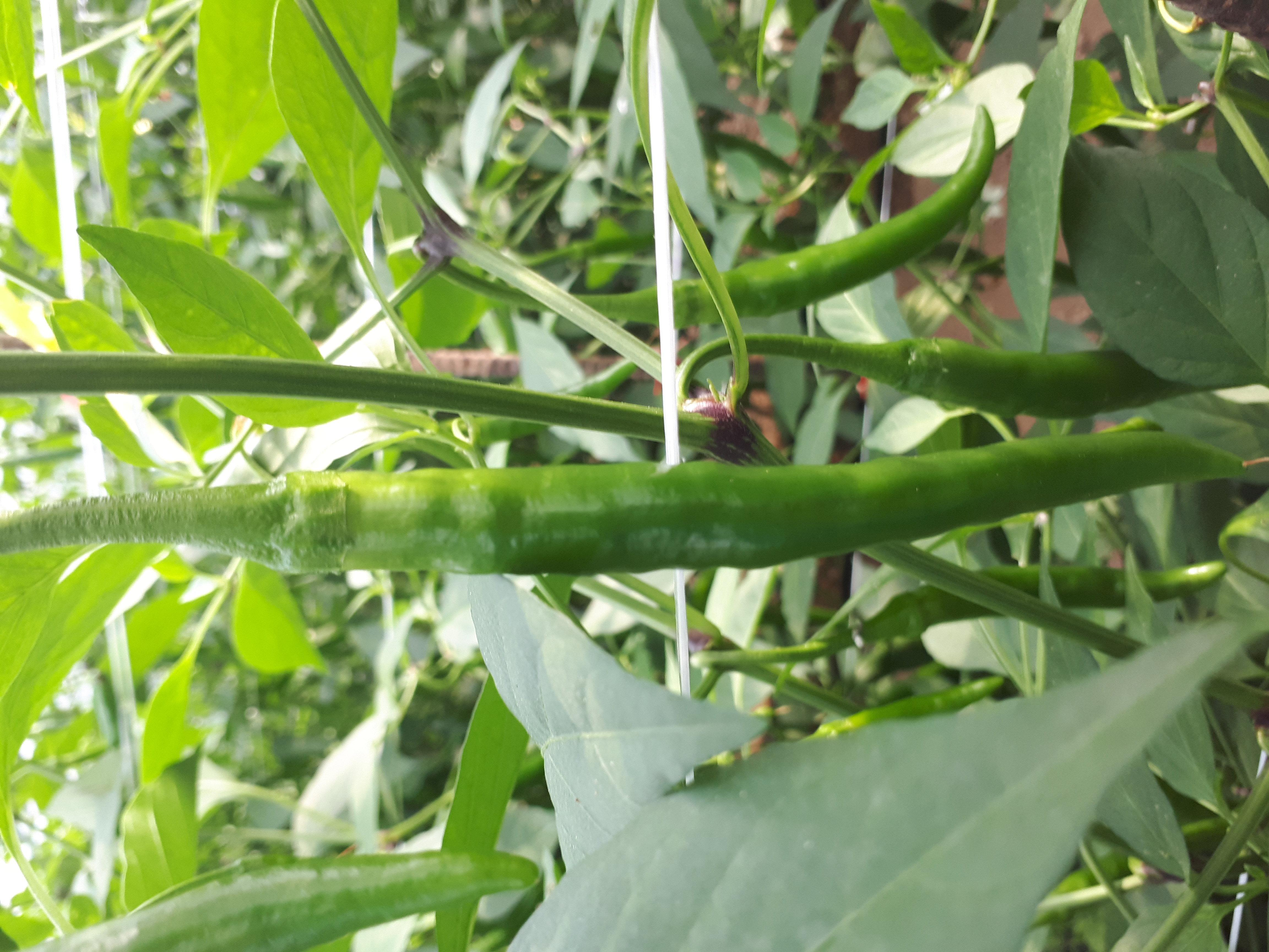Buah Cabai Sehat: (215, 420, 1263, 583), (653, 108, 997, 335)
Daun Cabai Sehat: (507, 607, 1269, 952)
